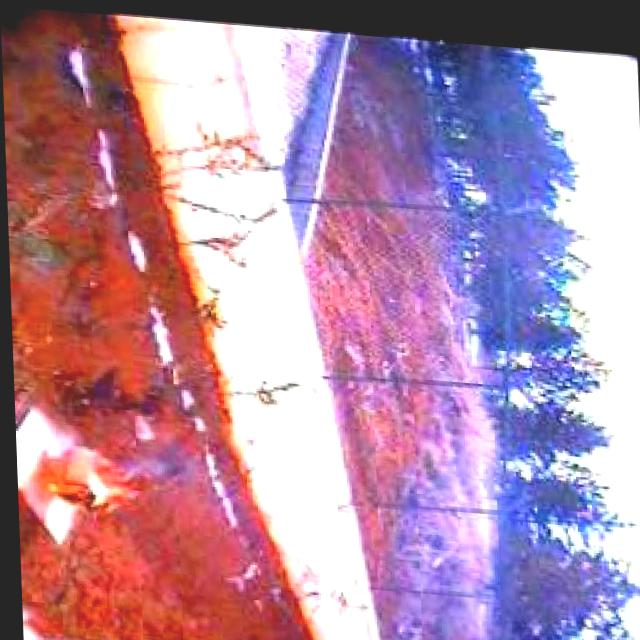helmet: (22, 439, 179, 517)
